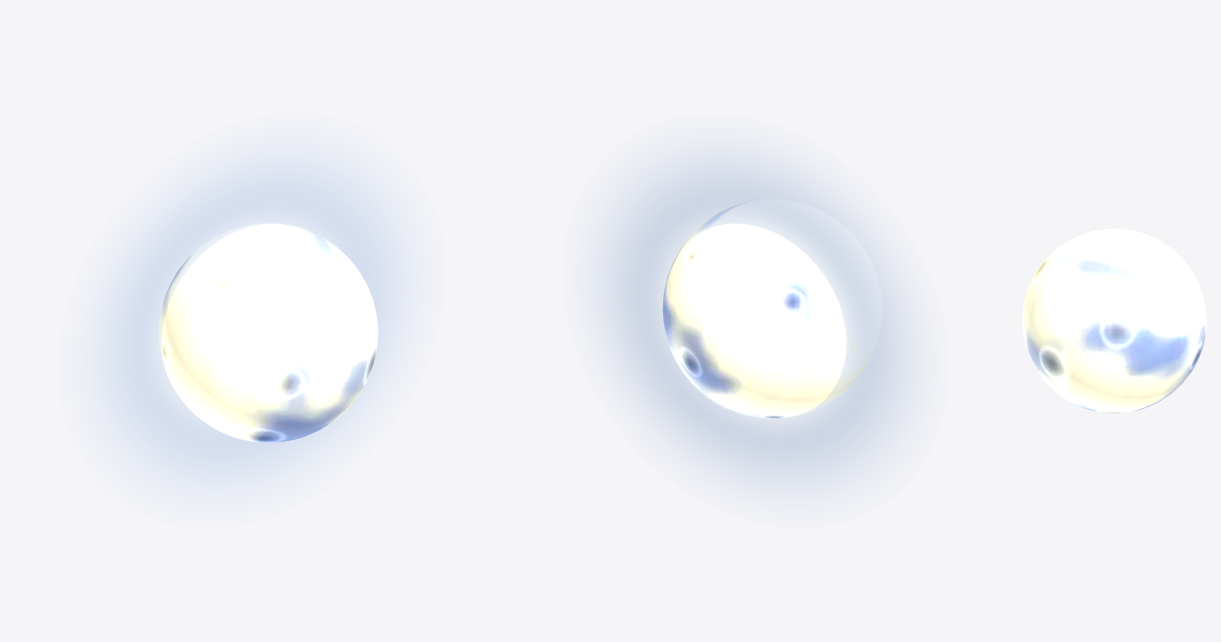
Rendered from sky-moon.glb.
3 views of the same model, side by side, from view 1: azimuth 30°, elevation 25°; view 2: azimuth 150°, elevation 25°; view 3: azimuth 270°, elevation 25° (orthographic). The views are drawn at different scales.
Visible parts, largest first — view 1: moon-halo, moon-ball; view 2: moon-halo, moon-ball; view 3: moon-ball.
Part boxes in pixels (bbox=[...]): moon-halo: bbox=[88, 145, 415, 496]; moon-ball: bbox=[158, 223, 378, 442]; moon-halo: bbox=[592, 145, 919, 496]; moon-ball: bbox=[662, 199, 882, 418]; moon-ball: bbox=[1022, 228, 1206, 413].
Bounding box in the file's own units: 5 × 5 × 2.
2 materials, 2 textured.
